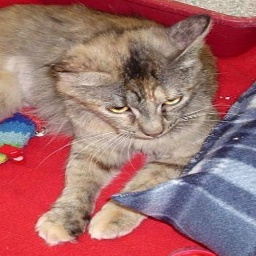cat: (2, 4, 227, 245)
